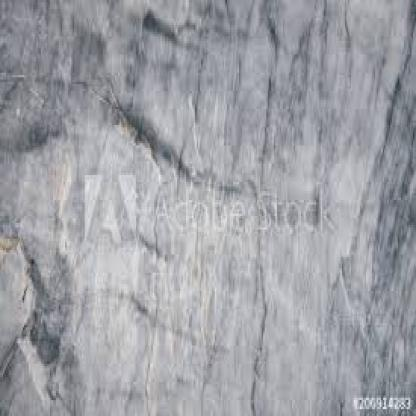Metamorphic_Marble: (3, 5, 415, 414)
